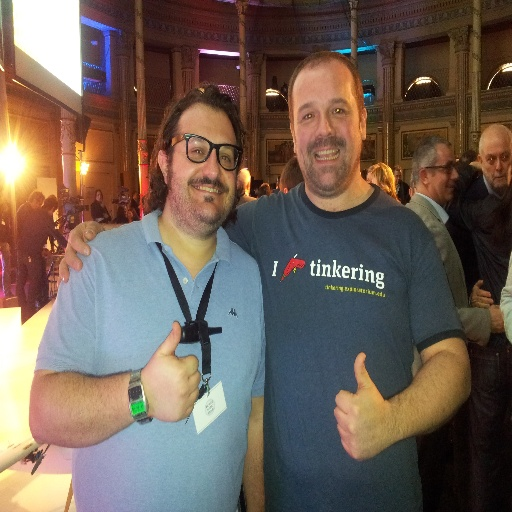hand: (328, 359, 430, 462), (140, 320, 201, 421), (55, 221, 104, 287), (468, 278, 493, 306), (488, 302, 504, 331), (42, 248, 50, 258), (103, 212, 109, 220), (128, 215, 132, 222)
